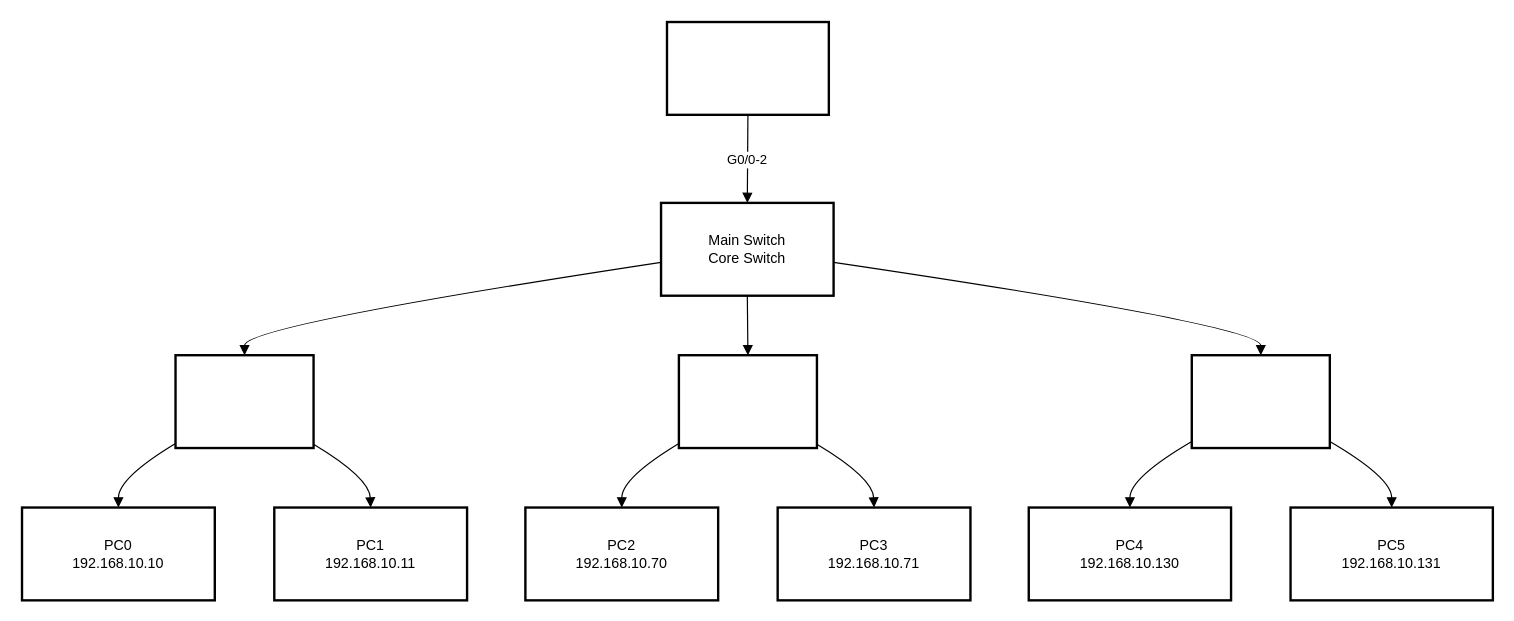
Image size: 1514x621. Some labels were removed from this diagram. Each missing label, with the centre of its shape:
Router Cisco 2911: point 747,67
Switch1 HR: point 244,401
Switch2 Finance: point 747,401
Switch3 IT: point 1260,401
